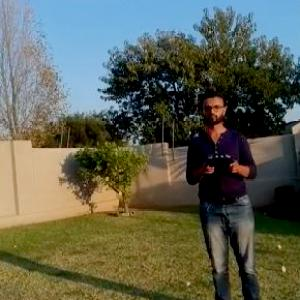follow: (181, 85, 266, 299)
